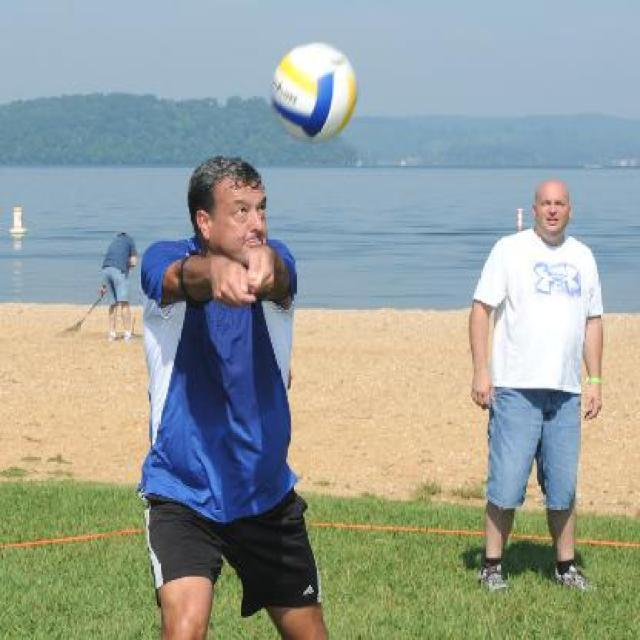volleyball: (270, 41, 356, 142)
